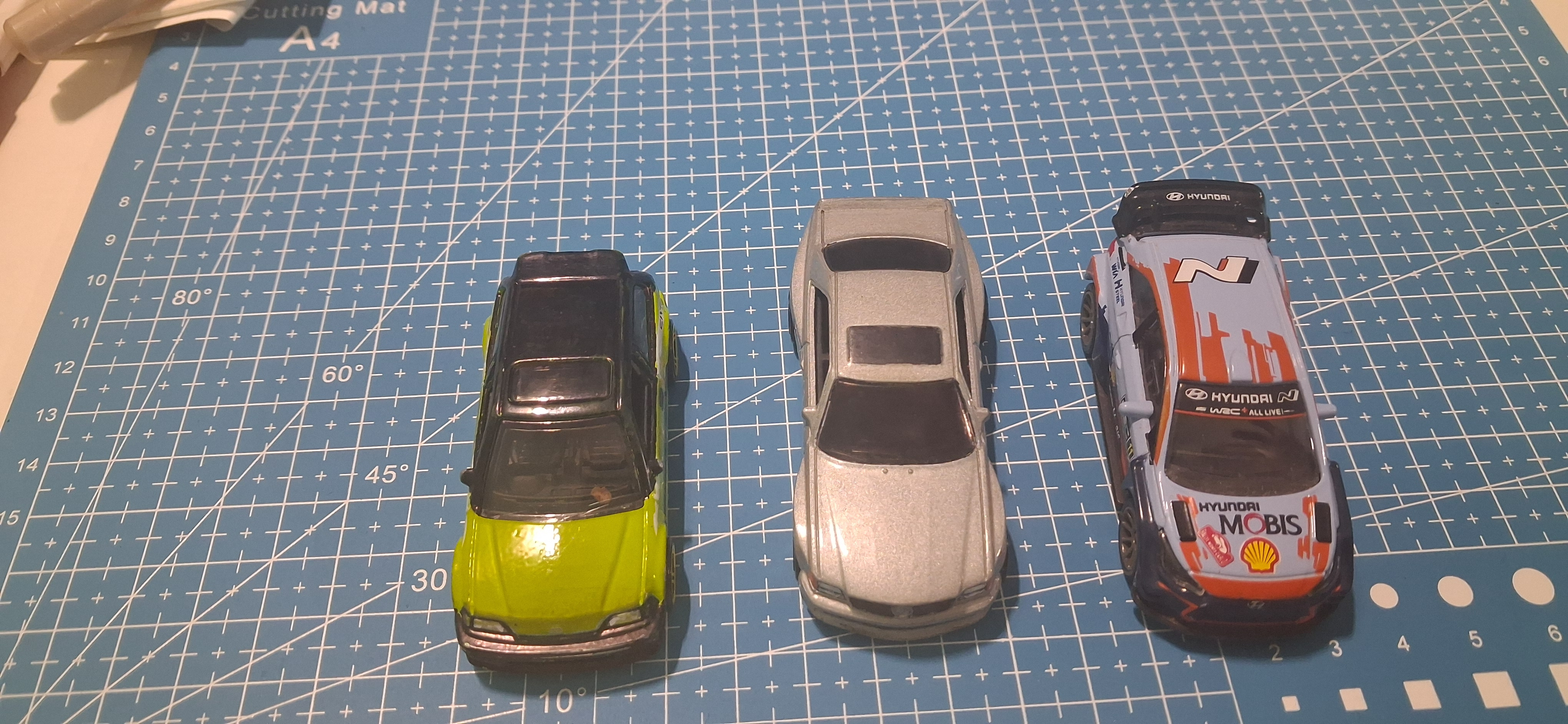Honda_Civic: (441, 209, 702, 692)
Hyundai_I20_WRC: (1071, 162, 1385, 670)
Mercedes_Benz_560_SEC_AMG: (763, 175, 1033, 679)
